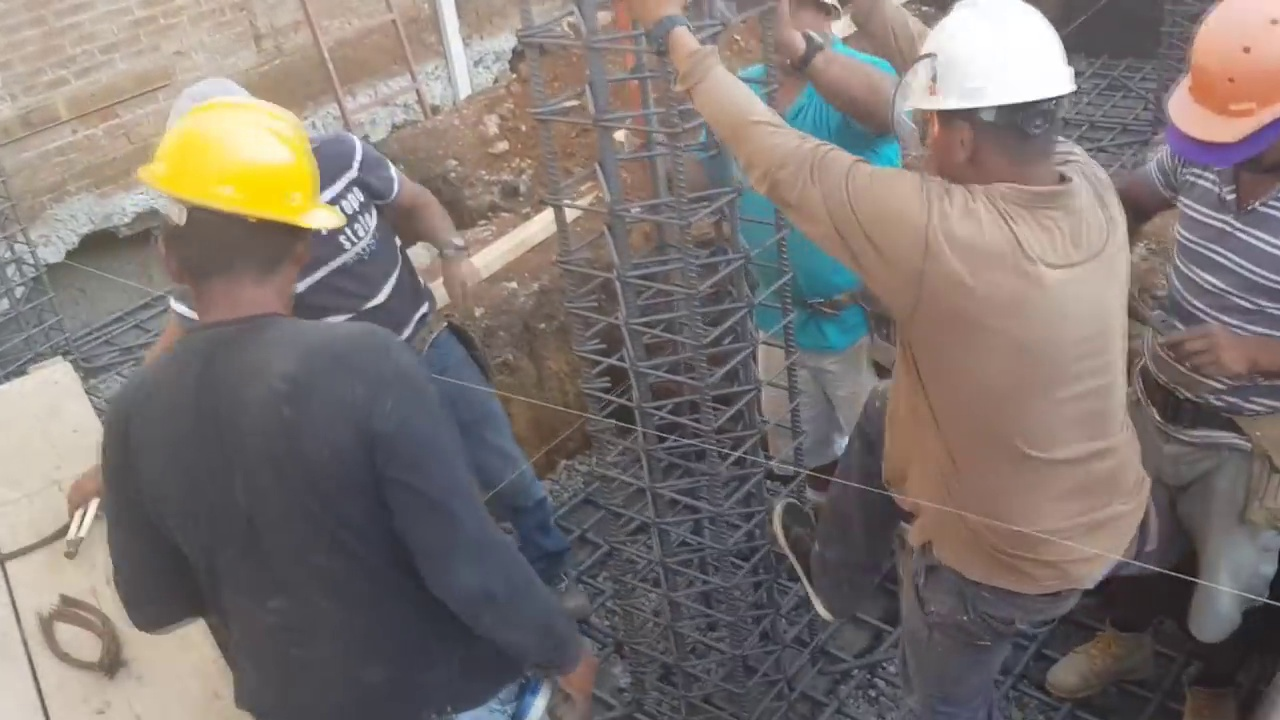helmet: (135, 93, 348, 238), (1158, 2, 1280, 168), (901, 3, 1081, 114)
helmet-on: (134, 92, 352, 341), (898, 0, 1083, 200), (1158, 5, 1280, 220)
person: (637, 2, 1146, 714), (94, 90, 598, 719), (172, 83, 597, 615), (1054, 4, 1280, 716), (691, 2, 904, 574)
